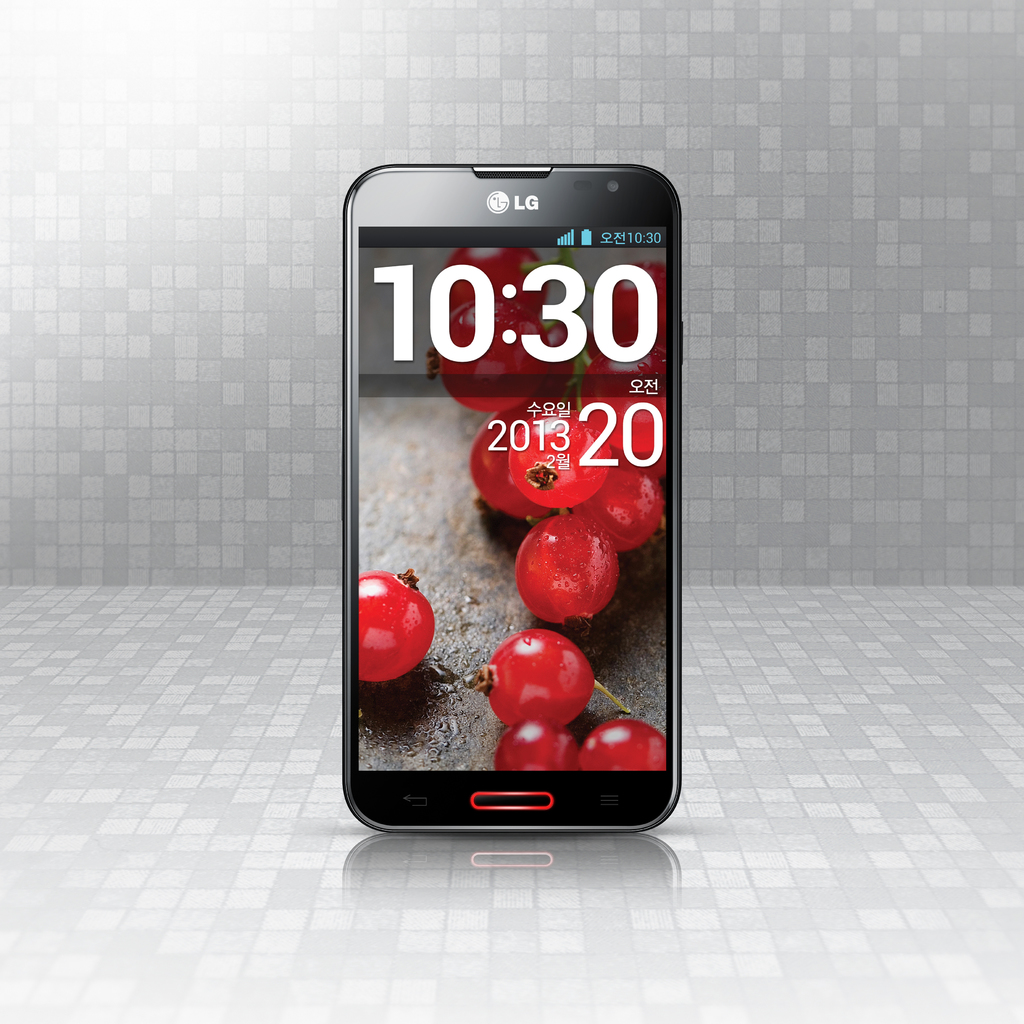mobile phone: (341, 163, 682, 842)
